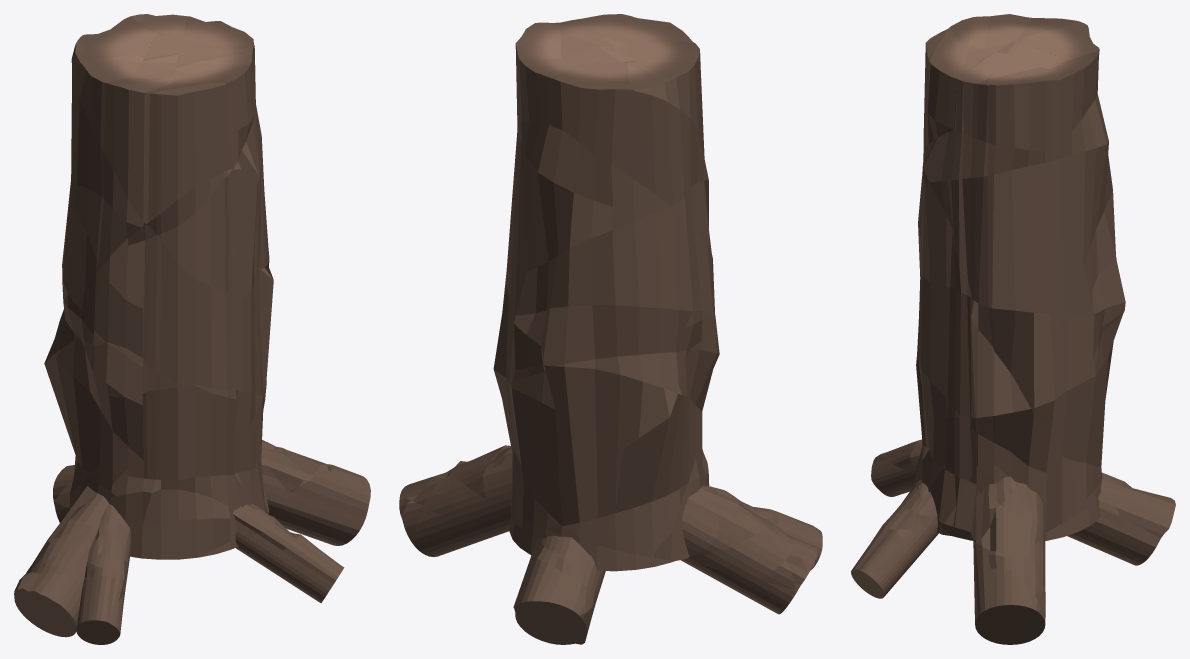
Rendered from Tree.obj.
The picture shows the model from 3 angles, left to right: view 1: azimuth 30°, elevation 25°; view 2: azimuth 150°, elevation 25°; view 3: azimuth 270°, elevation 25°; orthographic projection. The views are drawn at different scales.
Visible parts, largest first — view 1: Cylinder.002; view 2: Cylinder.002; view 3: Cylinder.002.
Part boxes in pixels (box(x1,y1,x2,y2)): Cylinder.002: box(14, 14, 370, 644); Cylinder.002: box(399, 14, 822, 644); Cylinder.002: box(851, 14, 1175, 644).
Bounding box in the file's own units: 7.18 × 9.82 × 5.54.
